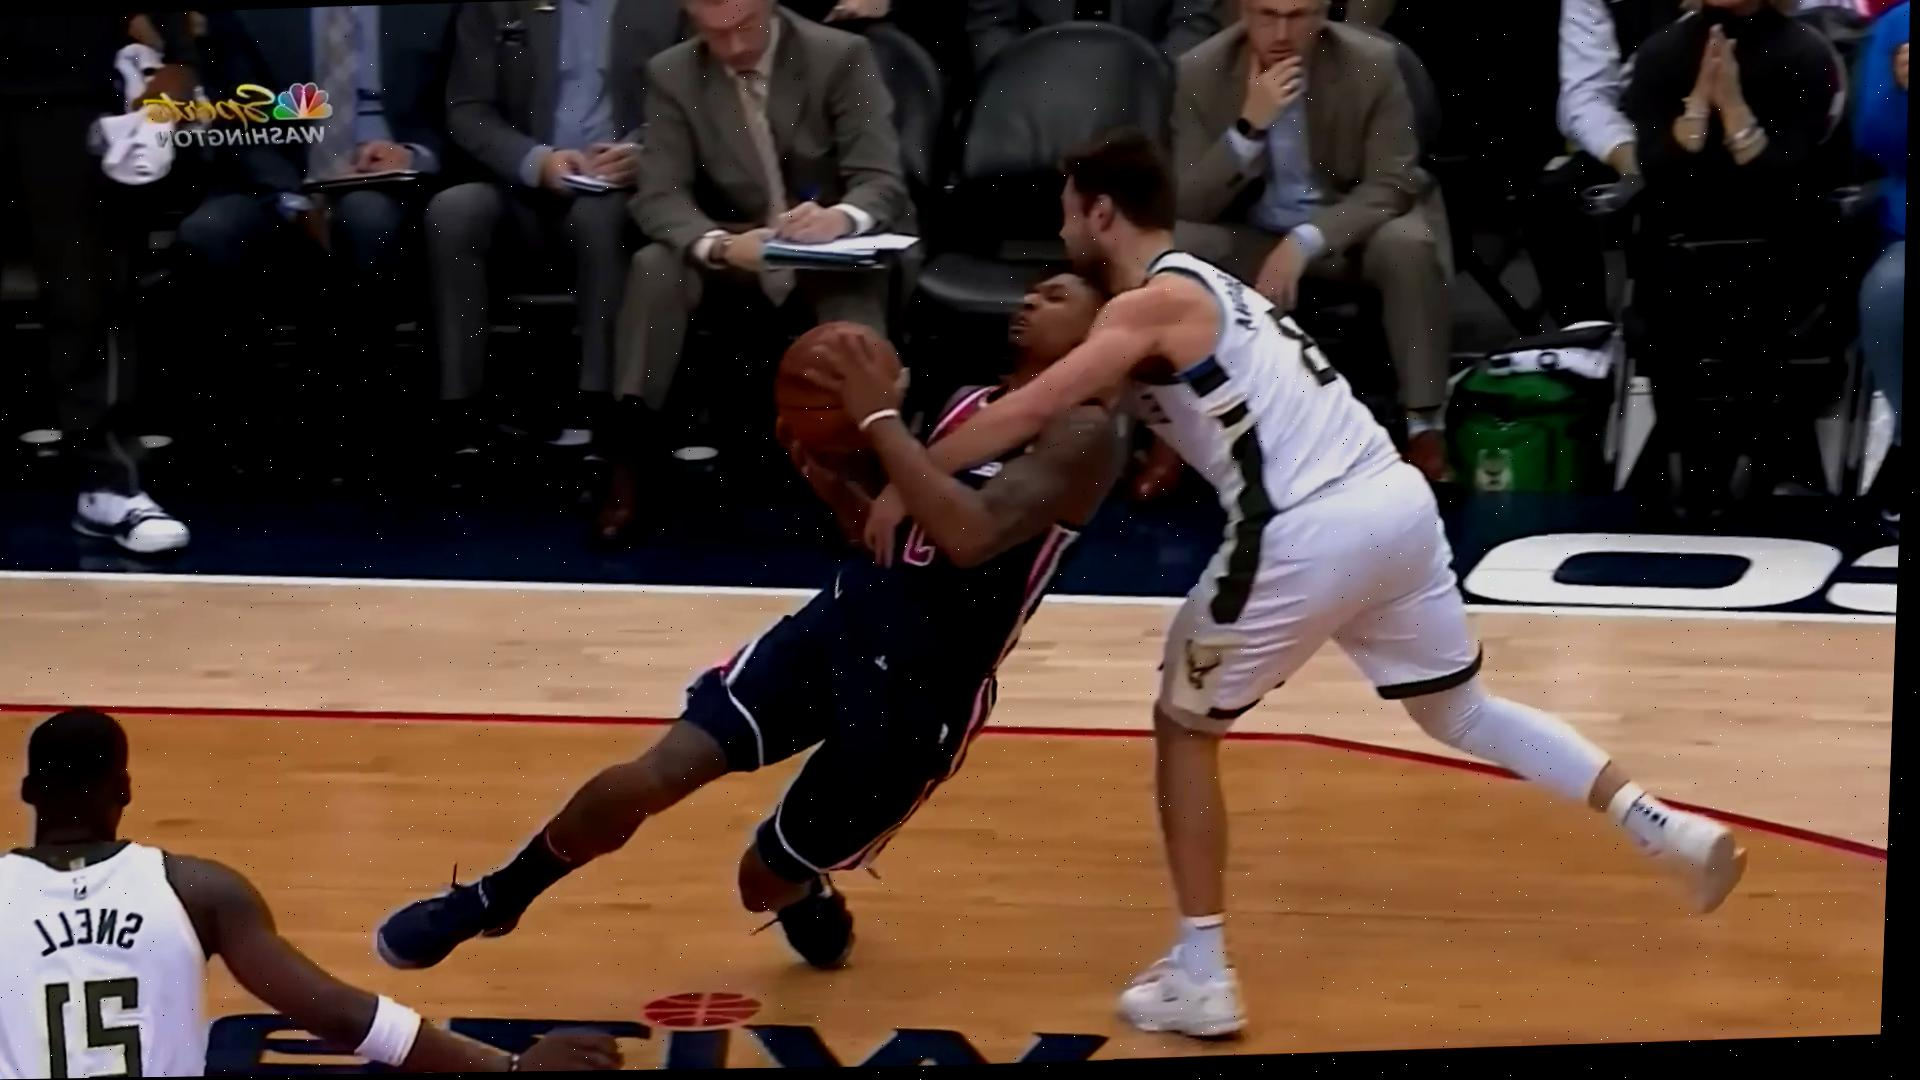foul: (413, 108, 1536, 1048)
